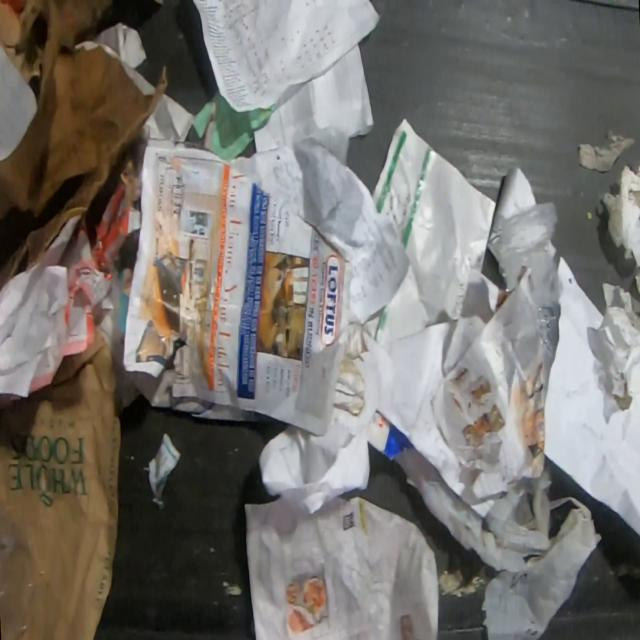cardboard: (0, 42, 39, 163)
soft_plastic: (392, 444, 603, 640)
